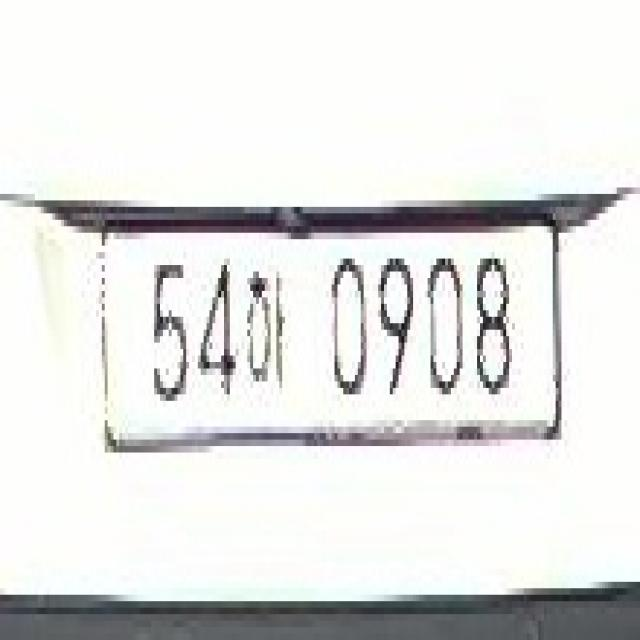0: (323, 220, 366, 414), (428, 245, 468, 400)
4: (195, 272, 238, 414)
5: (140, 232, 195, 413)
8: (471, 233, 524, 401)
9: (372, 240, 419, 394)
ha: (242, 258, 282, 388)
license_plate: (96, 220, 564, 446)
